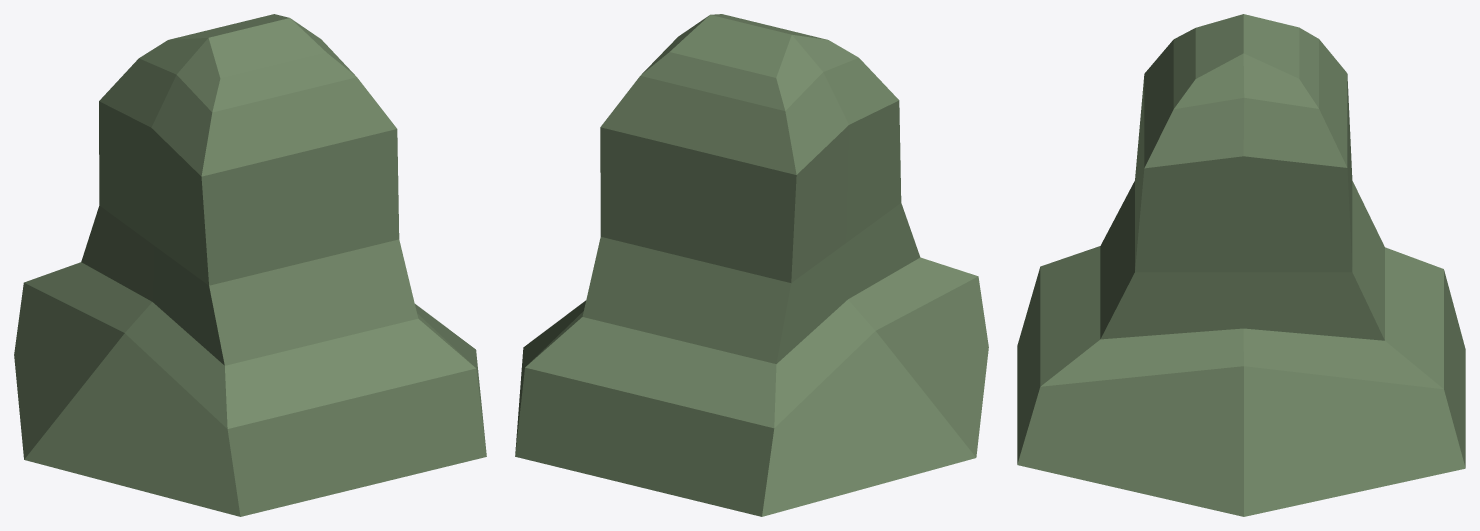
File: CorwhyleBellblend.fbx
3 renders of one model, left to right at view 1: azimuth 30°, elevation 25°; view 2: azimuth 150°, elevation 25°; view 3: azimuth 270°, elevation 25°, orthographic.
Parts seen in each view (by area): view 1: Cube; view 2: Cube; view 3: Cube.
Part boxes in pixels (x1,y1,x2,y2): Cube: (14, 14, 486, 516); Cube: (515, 14, 988, 516); Cube: (1017, 14, 1465, 516).
Bounding box in the file's own units: 448 × 359 × 389.
